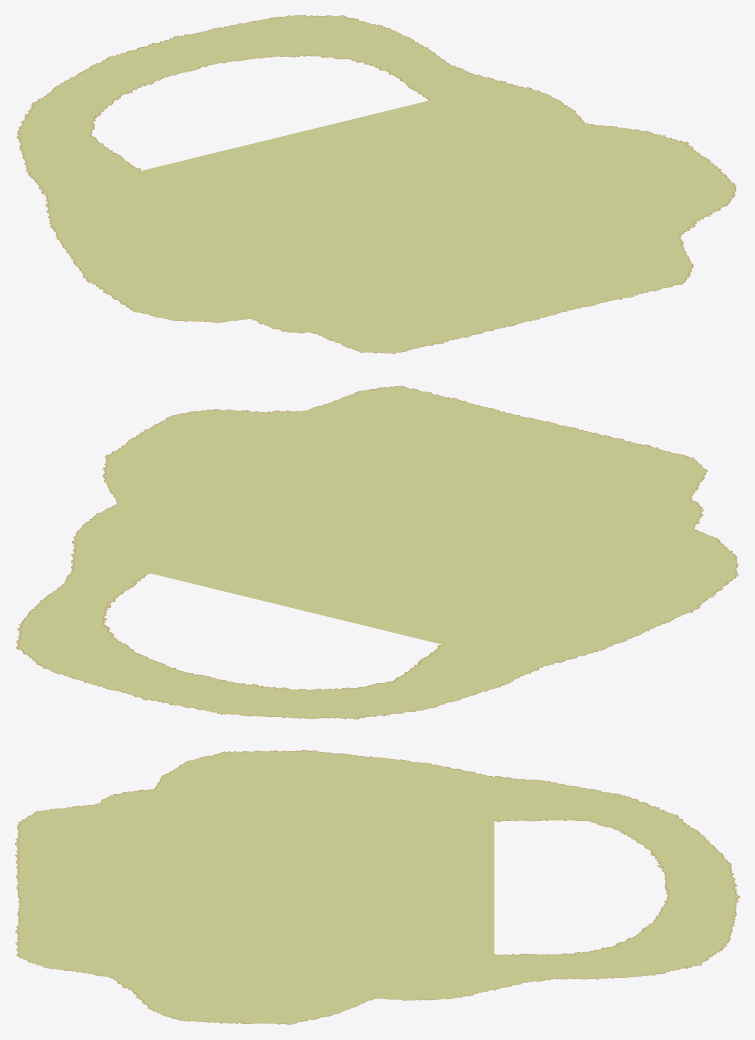
The model's file is Mesh_Activity_Pachinko_02_Grass_01.fbx.
The picture shows the model from 3 angles, top to bottom: view 1: azimuth 30°, elevation 25°; view 2: azimuth 150°, elevation 25°; view 3: azimuth 270°, elevation 25°; orthographic projection. The views are drawn at different scales.
Visible parts, largest first — view 1: Mesh_Activity_Pachinko_02_Grass_01; view 2: Mesh_Activity_Pachinko_02_Grass_01; view 3: Mesh_Activity_Pachinko_02_Grass_01.
Part boxes in pixels (x1,y1,x2,y2): Mesh_Activity_Pachinko_02_Grass_01: (16, 15, 736, 353); Mesh_Activity_Pachinko_02_Grass_01: (15, 386, 738, 719); Mesh_Activity_Pachinko_02_Grass_01: (15, 750, 739, 1024).
Bounding box in the file's own units: 1440 × 0 × 1602.
1 material, 1 textured.
